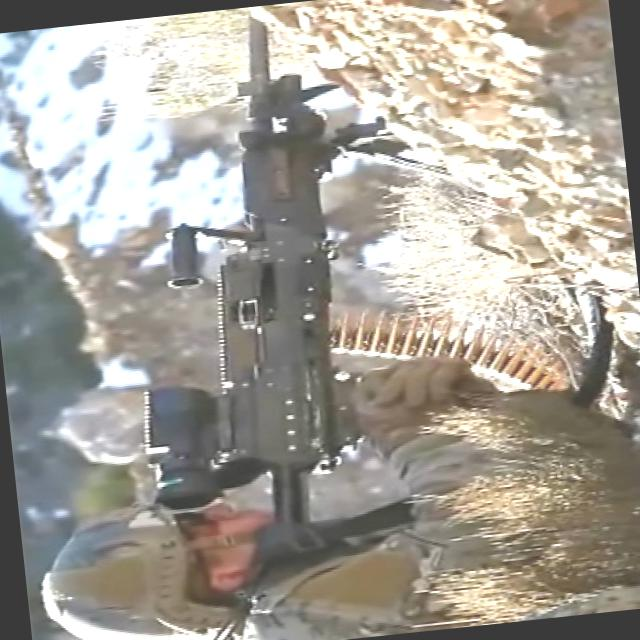long weapon: (98, 0, 437, 567)
